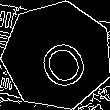O_NW: (25, 23, 89, 89)
